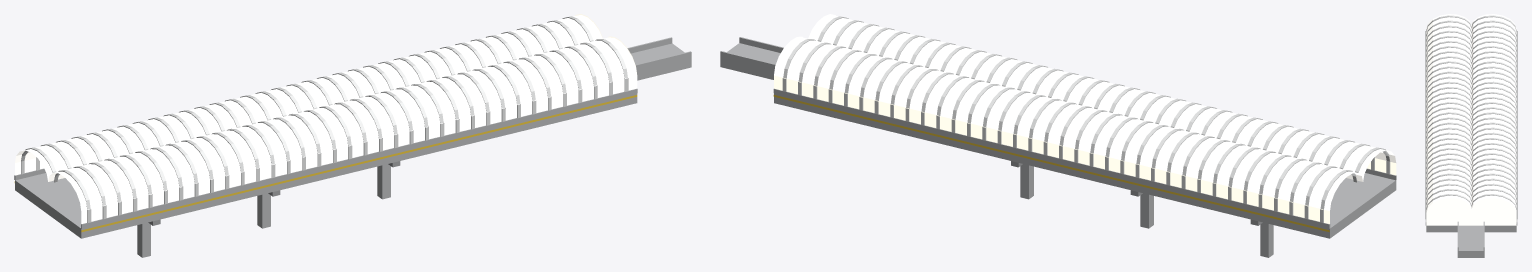
Rendered from shibuya_station.glb.
3 renders of one model, left to right at view 1: azimuth 30°, elevation 25°; view 2: azimuth 150°, elevation 25°; view 3: azimuth 270°, elevation 25°, orthographic. The views are drawn at different scales.
Visible parts, largest first — view 1: SB_Station; view 2: SB_Station; view 3: SB_Station.
Part boxes in pixels (left/top/right/bottom): SB_Station: left=14, top=14, right=691, bottom=257; SB_Station: left=720, top=14, right=1396, bottom=257; SB_Station: left=1425, top=14, right=1517, bottom=257.
Size of the model in its own units: 132 by 19 by 24.4.
